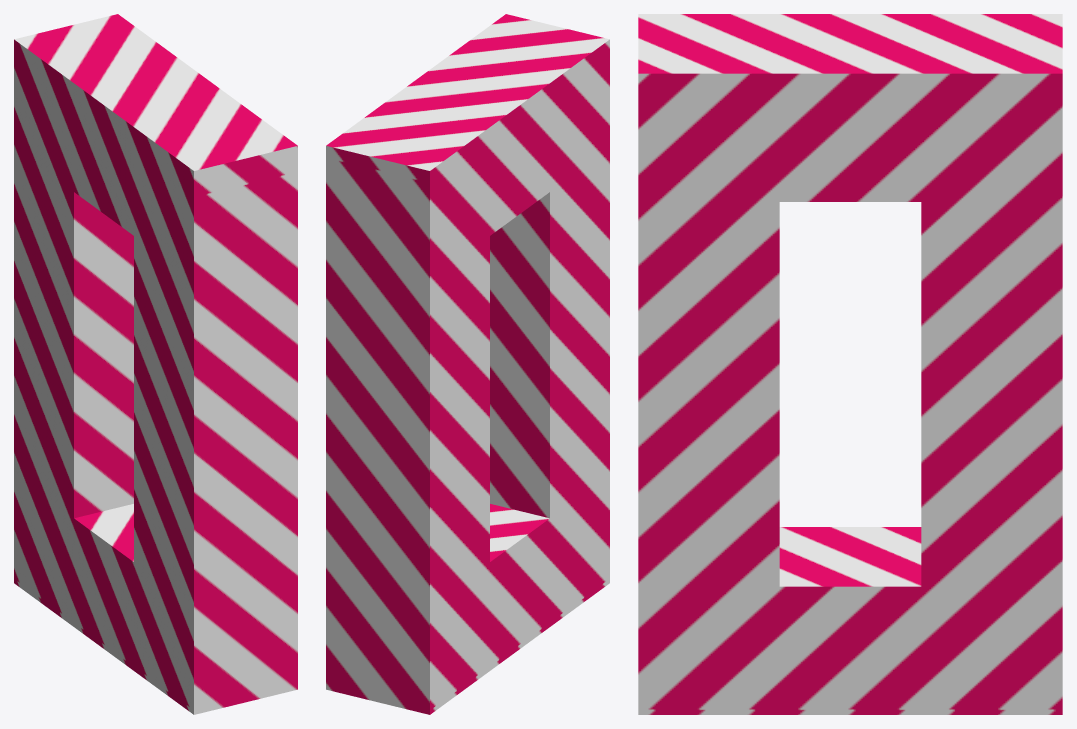
File: _ull.fbx
3 renders of one model, left to right at view 1: azimuth 30°, elevation 25°; view 2: azimuth 150°, elevation 25°; view 3: azimuth 270°, elevation 25°, orthographic. The views are drawn at different scales.
Visible parts, largest first — view 1: Cube; view 2: Cube; view 3: Cube.
Boxes of the visible parts, bbox=[...] form: Cube: bbox=[14, 14, 297, 714]; Cube: bbox=[326, 14, 609, 714]; Cube: bbox=[638, 14, 1062, 714].
Size of the model in its own units: 200 by 1000 by 600.
